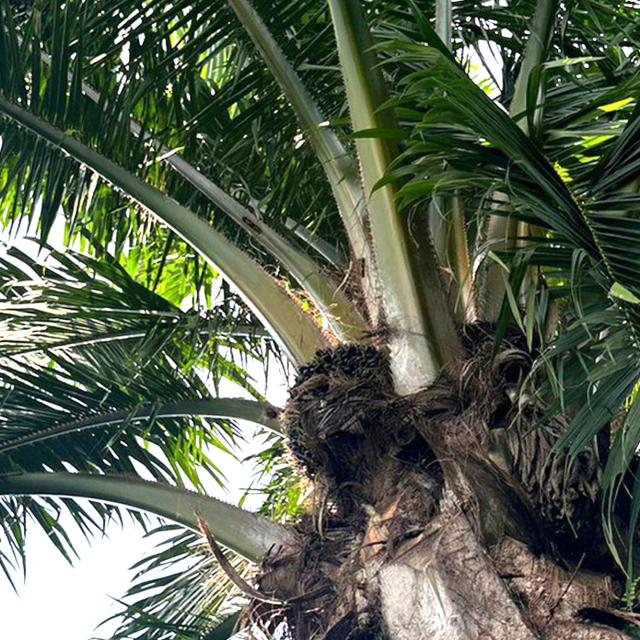ripe: (275, 326, 406, 488)
